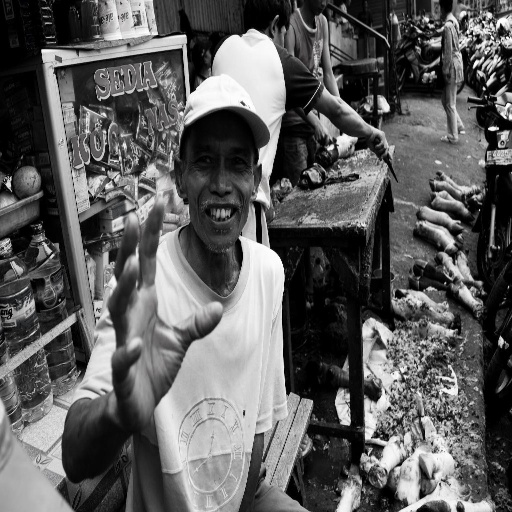hand: (109, 194, 224, 434), (367, 128, 393, 162), (313, 121, 334, 147)
